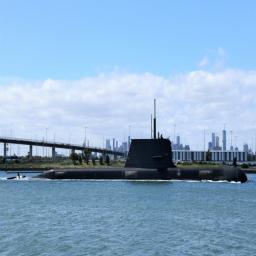submarine: (7, 99, 247, 181)
